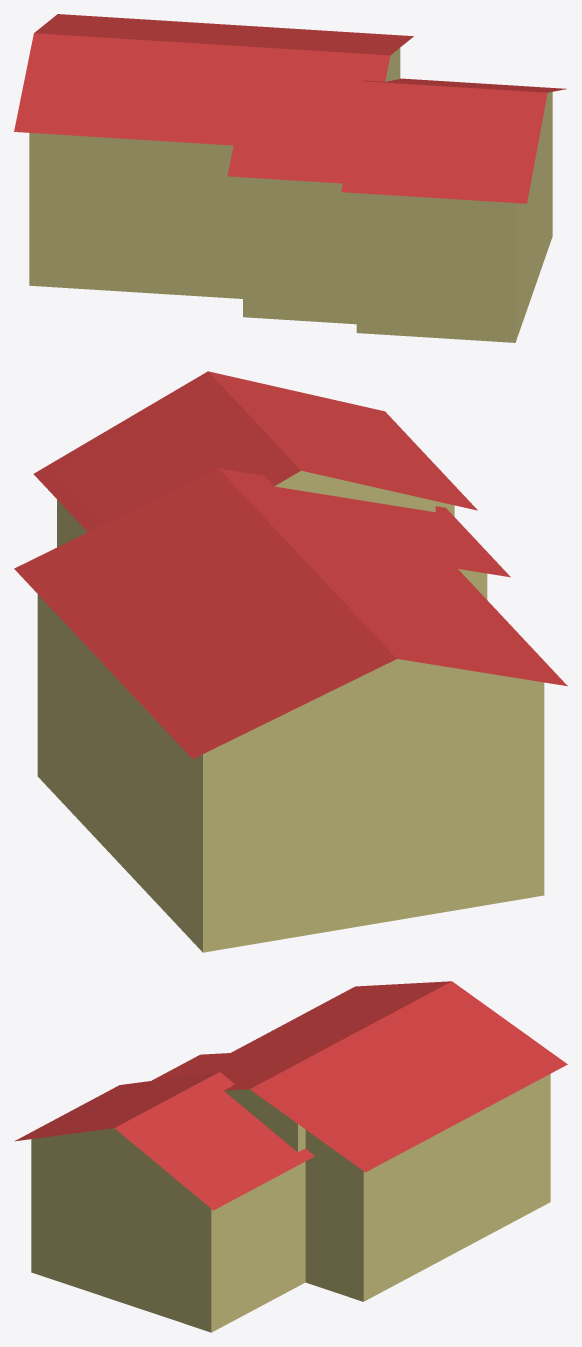
The picture shows the model from 3 angles, top to bottom: view 1: azimuth 30°, elevation 25°; view 2: azimuth 150°, elevation 25°; view 3: azimuth 270°, elevation 25°; orthographic projection. The views are drawn at different scales.
Bounding box in the file's own units: 20.18 × 22.5 × 8.12.
